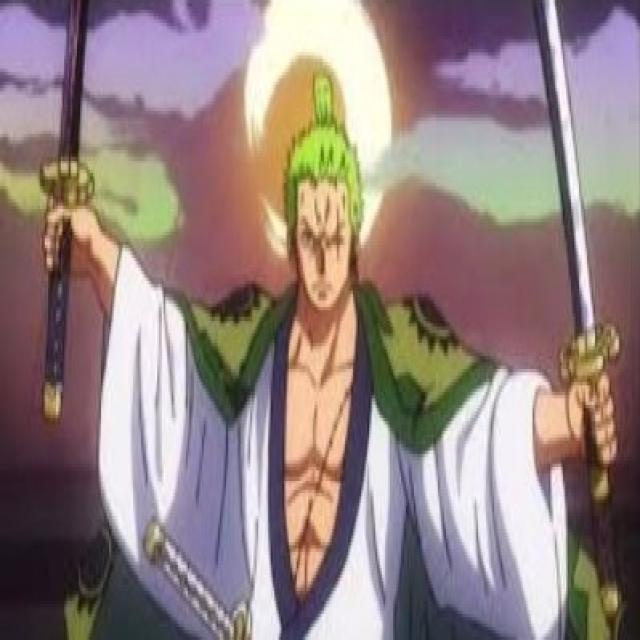Zoro: (37, 0, 619, 640)
